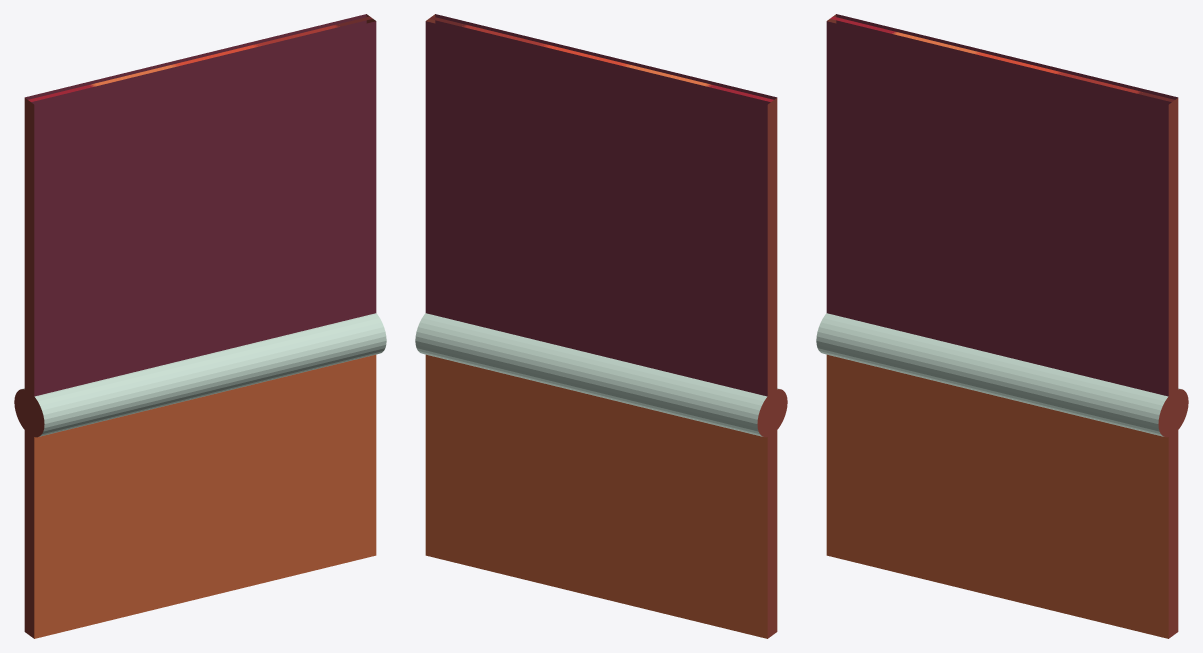
File: G477Proj2Wall.fbx
The picture shows the model from 3 angles, left to right: view 1: azimuth 30°, elevation 25°; view 2: azimuth 150°, elevation 25°; view 3: azimuth 330°, elevation 25°; orthographic projection.
Visible parts, largest first — view 1: Wall; view 2: Wall; view 3: Wall.
Boxes of the visible parts, bbox=[...] form: Wall: bbox=[14, 14, 386, 638]; Wall: bbox=[415, 14, 787, 638]; Wall: bbox=[816, 14, 1188, 638].
Size of the model in its own units: 201 by 300 by 30.7.
